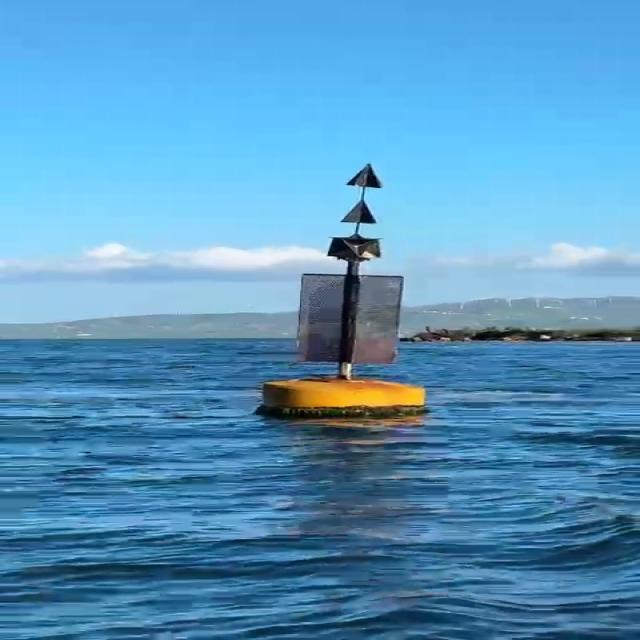marque: (266, 164, 431, 418)
